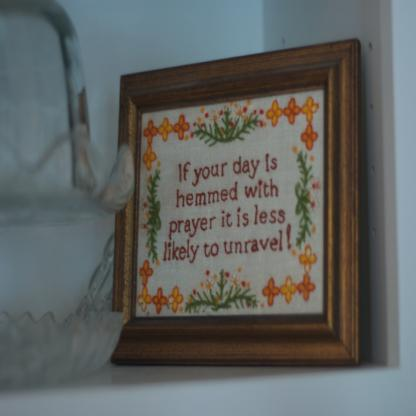Picture-frame: (112, 41, 361, 365)
